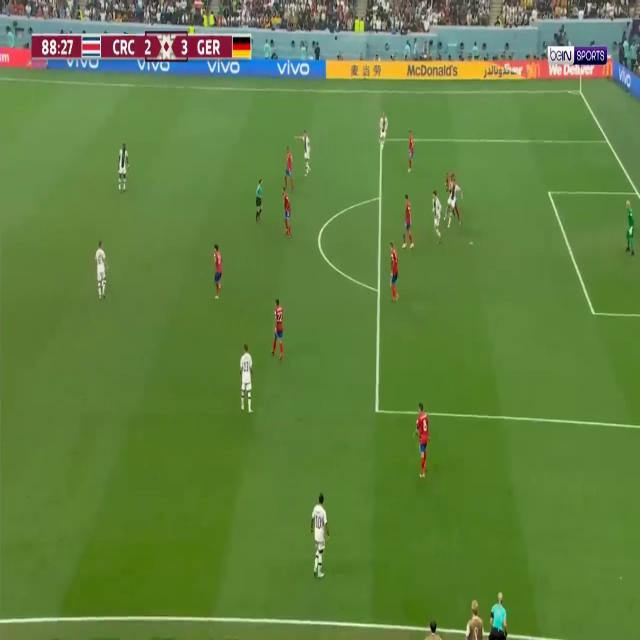GoalKeeper: (625, 197, 636, 257)
Referee: (489, 588, 511, 640), (254, 177, 264, 222)
TEAM 1: (415, 402, 429, 480), (386, 240, 401, 304), (279, 184, 295, 242), (271, 298, 285, 362), (401, 192, 415, 251), (282, 144, 296, 196), (212, 241, 224, 301), (406, 126, 414, 174), (445, 173, 453, 190)
TEAM 2: (309, 493, 328, 579), (238, 343, 257, 415), (95, 240, 108, 300), (446, 178, 462, 226), (294, 129, 310, 175), (116, 139, 129, 193), (432, 189, 442, 249), (378, 110, 388, 150)
